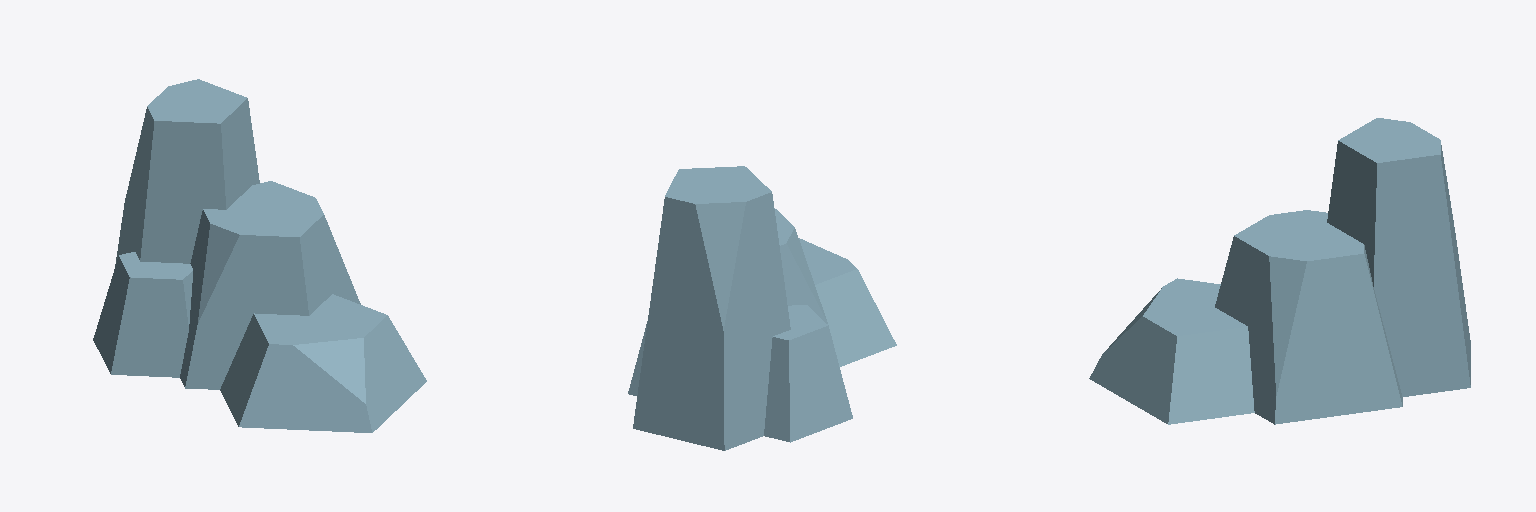
Rendered from rockWide.obj.
3 views of the same model, side by side, from view 1: azimuth 30°, elevation 25°; view 2: azimuth 150°, elevation 25°; view 3: azimuth 270°, elevation 25° (orthographic).
Parts seen in each view (by area): view 1: rockWide; view 2: rockWide; view 3: rockWide.
Boxes of the visible parts, x1,y1,x2,y2 form: rockWide: [93, 79, 426, 432]; rockWide: [628, 166, 896, 450]; rockWide: [1089, 118, 1470, 424].
Bounding box in the file's own units: 1.09 × 1.02 × 1.57.